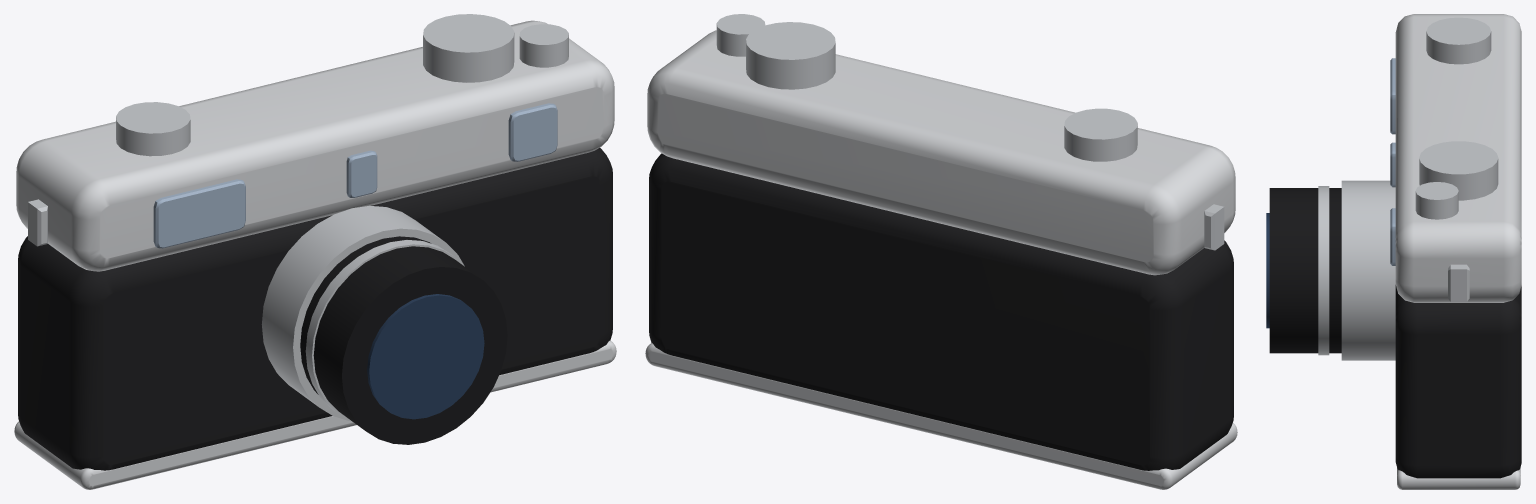
Rendered from rangefinder.glb.
The picture shows the model from 3 angles, left to right: view 1: azimuth 30°, elevation 25°; view 2: azimuth 150°, elevation 25°; view 3: azimuth 270°, elevation 25°; orthographic projection. The views are drawn at different scales.
Visible parts, largest first — view 1: Skin, Top, Ring, Lens, Glass, Window; view 2: Skin, Top, Ring; view 3: Top, Skin, Ring, Lens, Window, Glass.
Part boxes in pixels (<box>): Skin: <box>18,148,612,470</box>; Top: <box>14,20,616,489</box>; Ring: <box>28,14,568,421</box>; Lens: <box>300,236,507,444</box>; Glass: <box>367,294,484,419</box>; Window: <box>153,103,557,248</box>; Skin: <box>649,153,1233,470</box>; Top: <box>645,30,1237,489</box>; Ring: <box>716,14,1224,250</box>; Top: <box>1395,14,1521,489</box>; Skin: <box>1395,285,1521,478</box>; Ring: <box>1318,17,1498,360</box>; Lens: <box>1269,188,1341,353</box>; Window: <box>1390,58,1395,265</box>; Glass: <box>1266,213,1269,328</box>.
Size of the model in its own units: 0.314 by 0.176 by 0.142.
